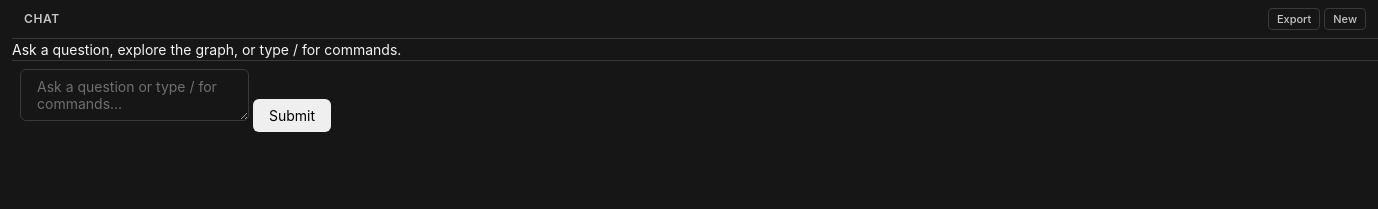
Test: ChatPanel — commands pass-through › slash menu shows correct command when filter is applied via typing
The width and height of the screenshot is (1378, 209).
Type "/fl" into the text box with test id "chat-input" at [134, 95], box [20,69,249,121]
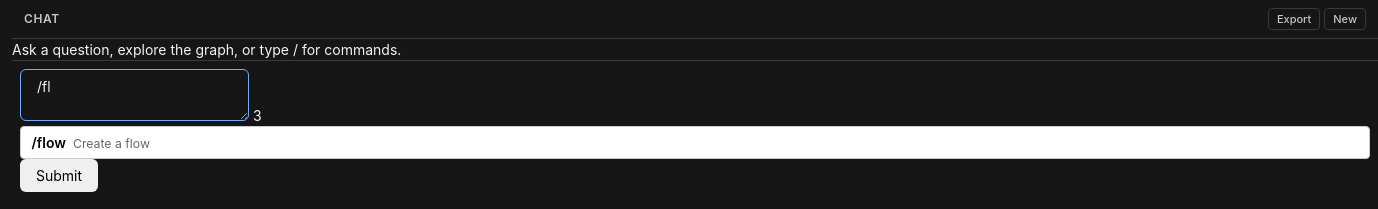
Expected: the list with test id "slash-command-menu" is shown, [20,126,1370,159]
Expected: the text "/flow" is shown, [32,134,66,151]
